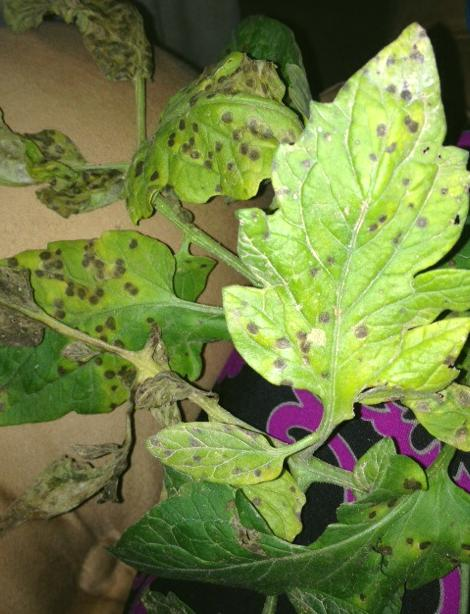Tomato Septoria leaf spot: (228, 10, 470, 414), (111, 456, 470, 603), (107, 51, 320, 223), (13, 229, 189, 357), (114, 407, 297, 486), (401, 377, 470, 449)
